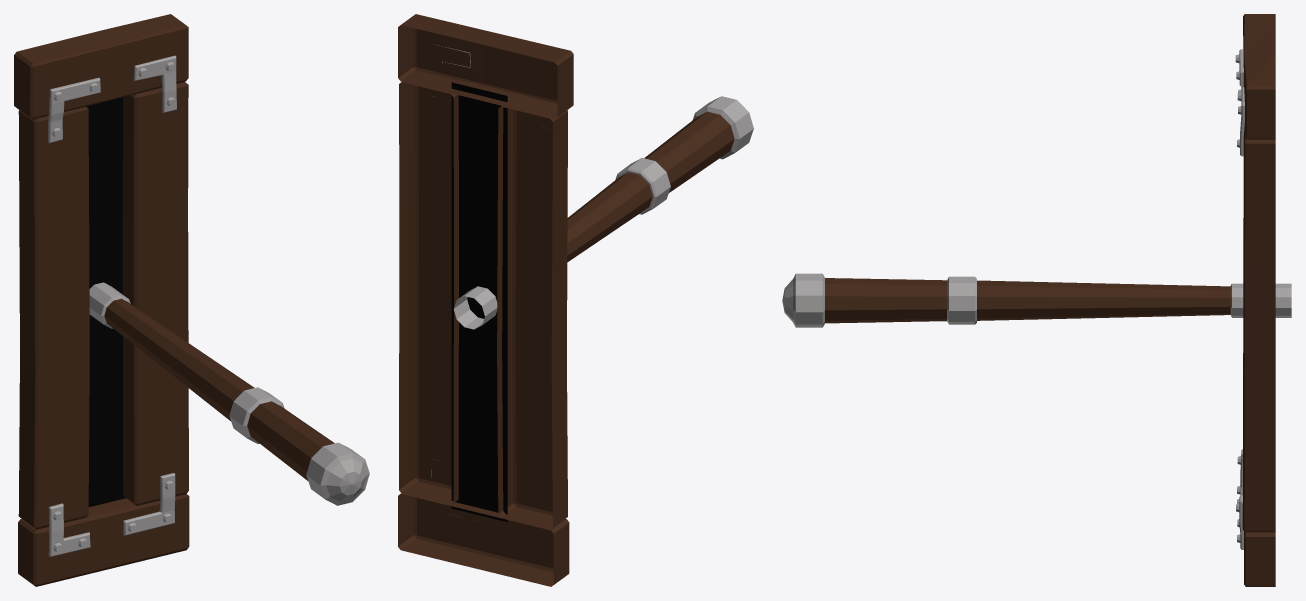
File: WoodenWallLever_1.fbx
3 renders of one model, left to right at view 1: azimuth 30°, elevation 25°; view 2: azimuth 150°, elevation 25°; view 3: azimuth 270°, elevation 25°, orthographic. The views are drawn at different scales.
Visible parts, largest first — view 1: WoodenWallLever_1_Casing, WoodenWallLever_1_Handle; view 2: WoodenWallLever_1_Casing, WoodenWallLever_1_Handle; view 3: WoodenWallLever_1_Casing, WoodenWallLever_1_Handle.
Boxes of the visible parts, x1,y1,x2,y2 form: WoodenWallLever_1_Casing: (14,14,189,586); WoodenWallLever_1_Handle: (89,282,369,505); WoodenWallLever_1_Casing: (398,14,573,586); WoodenWallLever_1_Handle: (453,96,753,329); WoodenWallLever_1_Casing: (1235,14,1275,586); WoodenWallLever_1_Handle: (782,273,1291,327).
Size of the model in its own units: 18.45 by 58.08 by 53.46.
